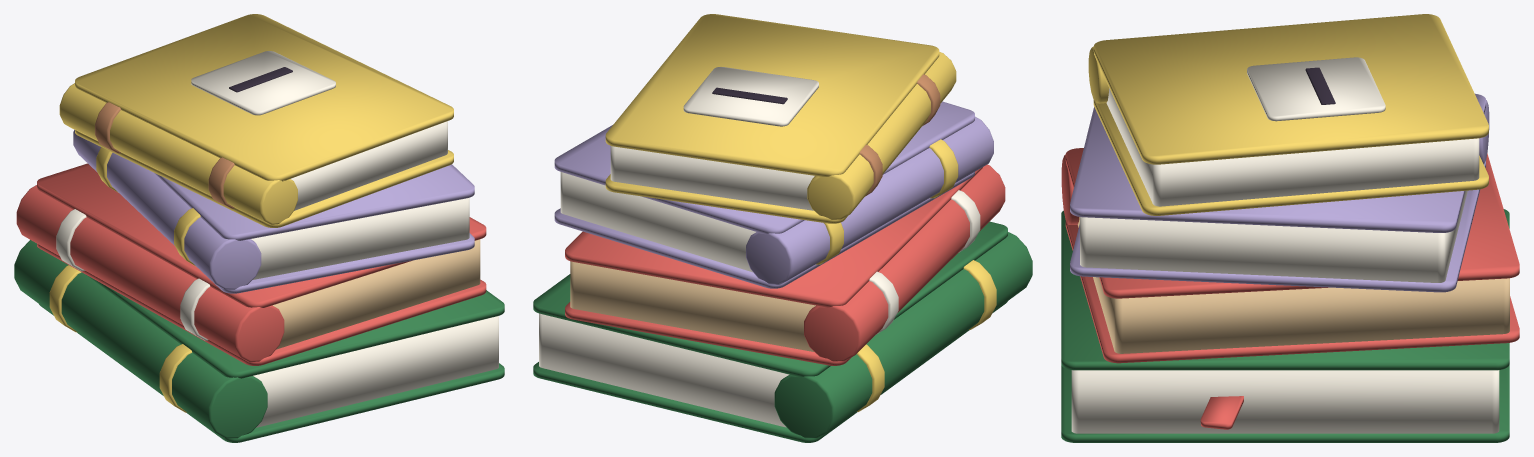
Rendered from stacked-books.glb.
3 views of the same model, side by side, from view 1: azimuth 30°, elevation 25°; view 2: azimuth 150°, elevation 25°; view 3: azimuth 270°, elevation 25° (orthographic). The views are drawn at different scales.
Parts seen in each view (by area): view 1: ClutterStackedBooks_ButterBook, ClutterStackedBooks_CreamPages, ClutterStackedBooks_CoralBook, ClutterStackedBooks_DeepGreenBook, ClutterStackedBooks_LavenderBook, ClutterStackedBooks_WoodLightPages, ClutterStackedBooks_TerracottaBands, ClutterStackedBooks_TitleLine; view 2: ClutterStackedBooks_ButterBook, ClutterStackedBooks_CreamPages, ClutterStackedBooks_CoralBook, ClutterStackedBooks_DeepGreenBook, ClutterStackedBooks_LavenderBook, ClutterStackedBooks_WoodLightPages, ClutterStackedBooks_TerracottaBands, ClutterStackedBooks_TitleLine; view 3: ClutterStackedBooks_CreamPages, ClutterStackedBooks_ButterBook, ClutterStackedBooks_WoodLightPages, ClutterStackedBooks_LavenderBook, ClutterStackedBooks_DeepGreenBook, ClutterStackedBooks_CoralBook, ClutterStackedBooks_TitleLine.
Boxes of the visible parts, <box> form: ClutterStackedBooks_ButterBook: <box>49,14,453,412</box>; ClutterStackedBooks_CreamPages: <box>56,51,498,427</box>; ClutterStackedBooks_CoralBook: <box>16,163,486,365</box>; ClutterStackedBooks_DeepGreenBook: <box>14,240,504,442</box>; ClutterStackedBooks_LavenderBook: <box>73,129,474,293</box>; ClutterStackedBooks_WoodLightPages: <box>273,239,480,349</box>; ClutterStackedBooks_TerracottaBands: <box>95,102,234,208</box>; ClutterStackedBooks_TitleLine: <box>229,67,292,92</box>; ClutterStackedBooks_ButterBook: <box>605,14,996,411</box>; ClutterStackedBooks_CreamPages: <box>539,67,980,427</box>; ClutterStackedBooks_CoralBook: <box>565,164,1005,365</box>; ClutterStackedBooks_DeepGreenBook: <box>533,221,1032,442</box>; ClutterStackedBooks_LavenderBook: <box>554,101,993,288</box>; ClutterStackedBooks_WoodLightPages: <box>570,261,815,351</box>; ClutterStackedBooks_TerracottaBands: <box>859,74,940,196</box>; ClutterStackedBooks_TitleLine: <box>712,87,787,104</box>; ClutterStackedBooks_CreamPages: <box>1071,57,1499,433</box>; ClutterStackedBooks_ButterBook: <box>1088,14,1488,215</box>; ClutterStackedBooks_WoodLightPages: <box>1077,217,1509,353</box>; ClutterStackedBooks_LavenderBook: <box>1070,93,1489,292</box>; ClutterStackedBooks_DeepGreenBook: <box>1061,209,1509,442</box>; ClutterStackedBooks_CoralBook: <box>1061,148,1519,429</box>; ClutterStackedBooks_TitleLine: <box>1305,67,1335,104</box>.
Size of the model in its own units: 0.311 by 0.2123 by 0.3119.
